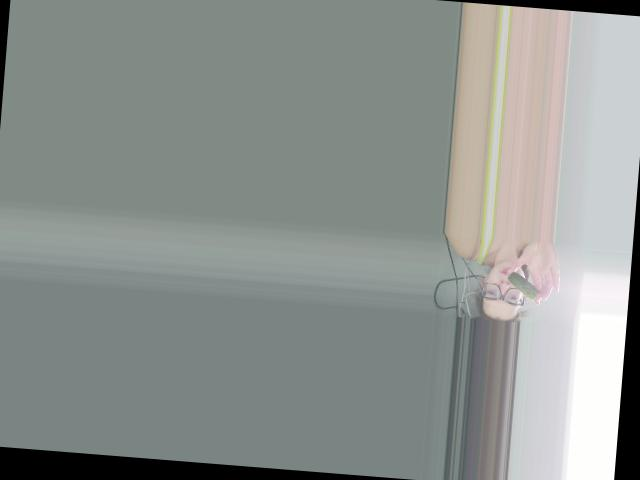cucumber: (505, 271, 539, 300)
